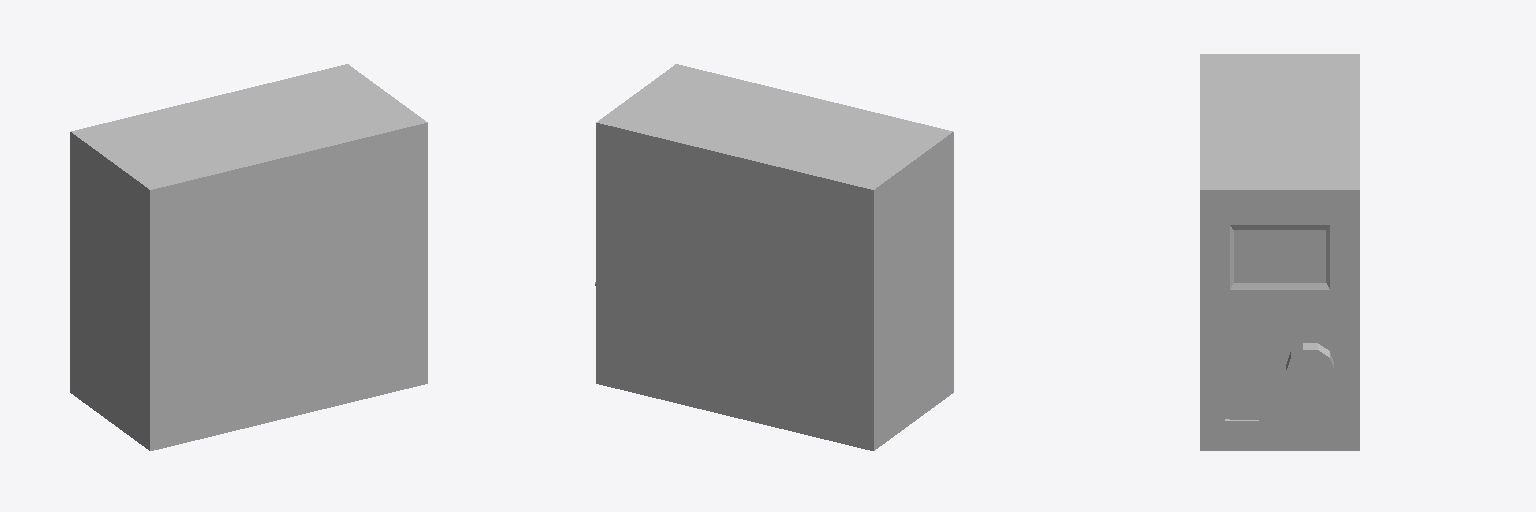
The model's file is powerSupply.obj.
3 renders of one model, left to right at view 1: azimuth 30°, elevation 25°; view 2: azimuth 150°, elevation 25°; view 3: azimuth 270°, elevation 25°, orthographic.
Parts seen in each view (by area): view 1: Cube; view 2: Cube; view 3: Cube.
Part boxes in pixels (left/top/right/bottom): Cube: left=70, top=64, right=427, bottom=450; Cube: left=595, top=64, right=953, bottom=450; Cube: left=1200, top=54, right=1359, bottom=450.
Size of the model in its own units: 0.42 by 0.36 by 0.2.